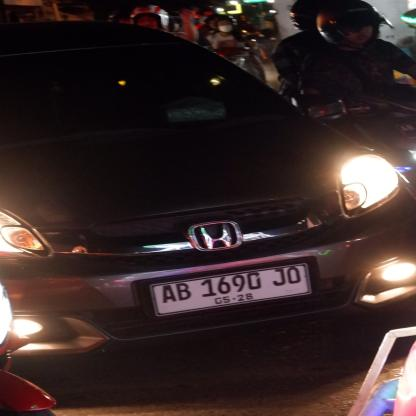Plat-Nomor: (145, 261, 325, 317)
